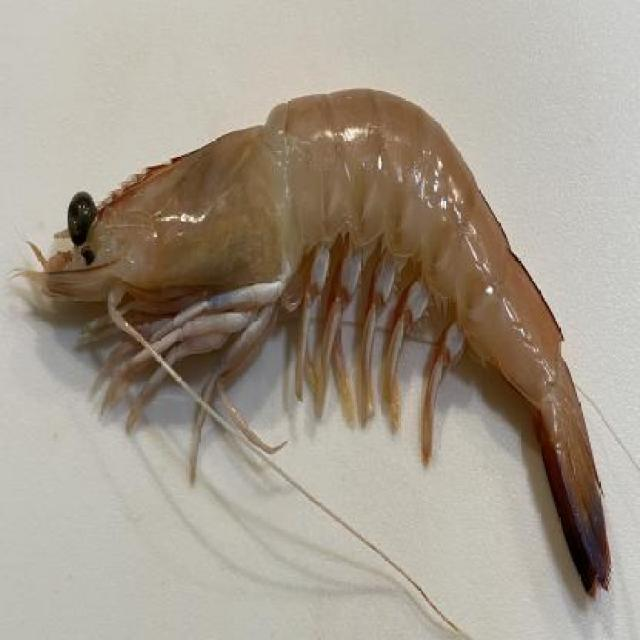shrimp: (20, 60, 621, 615)
